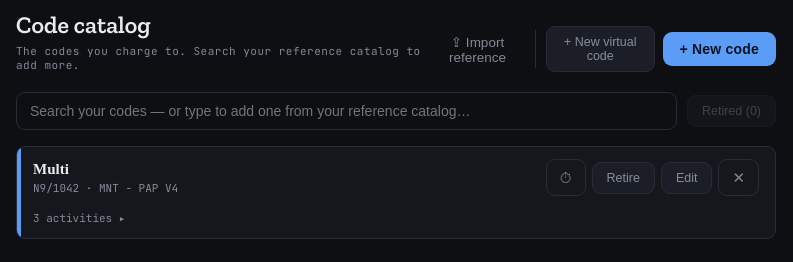
Test: CodeCatalogScreen › collapses a multi-activity code behind a count, expandable on click (BIZ-045)
Expected: the text "Alpha" is not shown
Step 1. Click the button "3 activities ▸" → (79, 218), box [33,211,125,225]
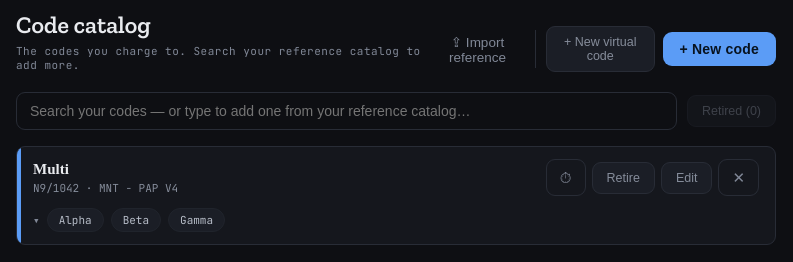
Result: the text "Alpha" is shown at [47,208,104,232]
Result: the text "Gamma" is shown at [168,208,225,232]
